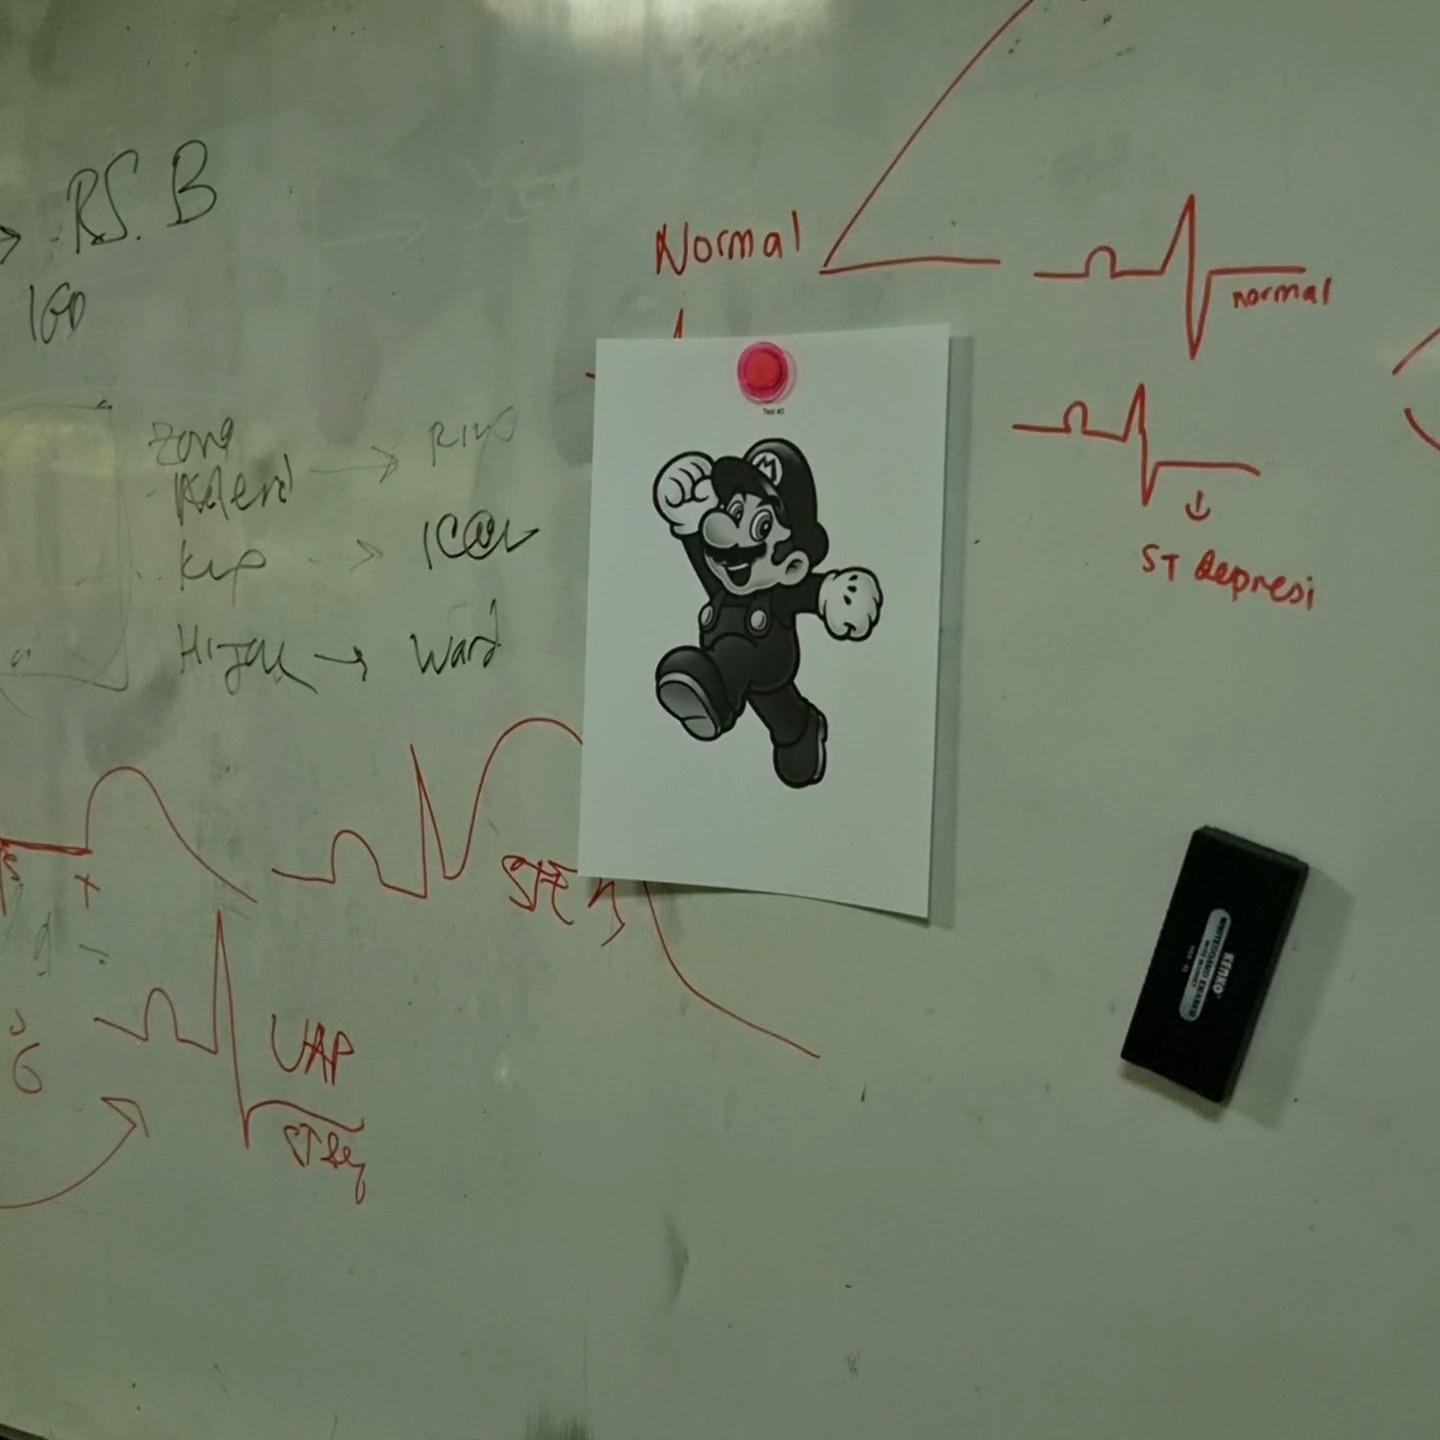mario: (642, 427, 894, 796)
